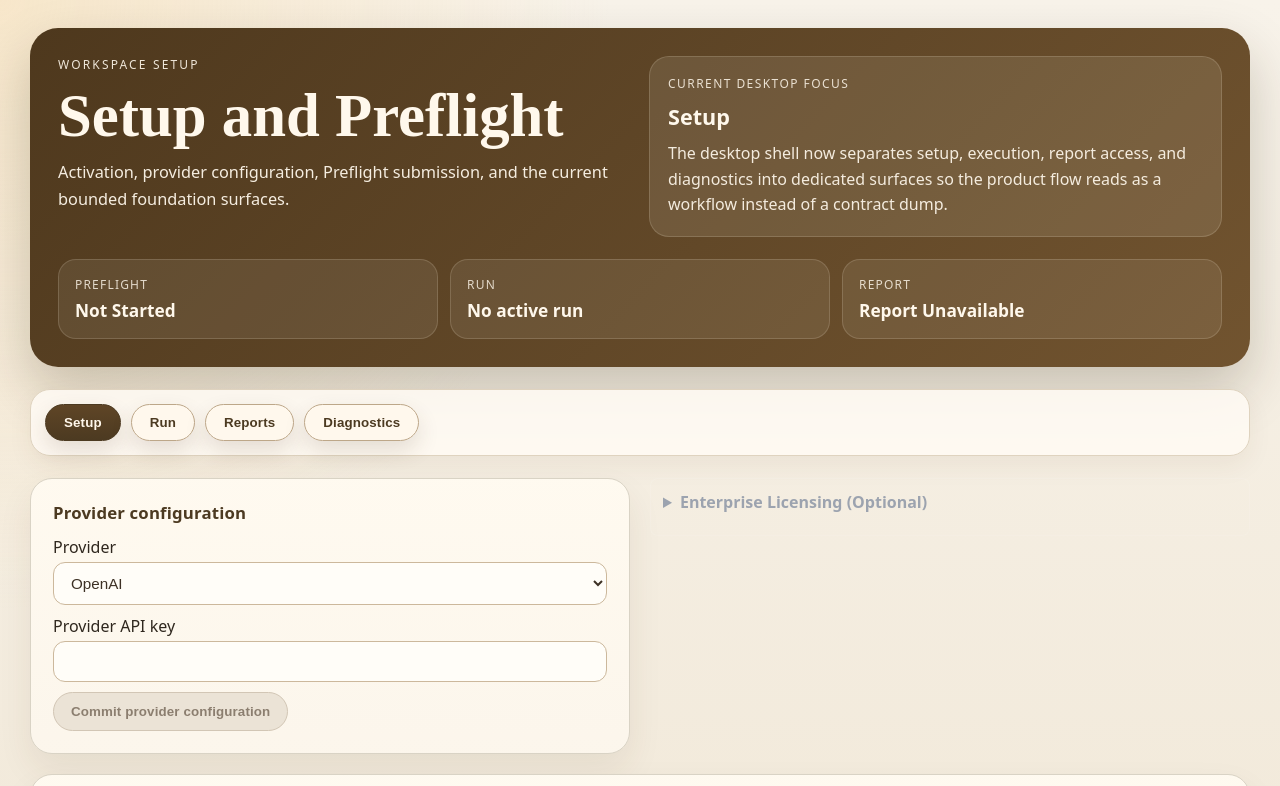
Test: App Wave 7 monitoring-contract UI › renders capped finalization truth from shell-owned monitoring surfaces
The image size is (1280, 786).
Click the button "Run". click: (163,422)
box: x1=131 y1=404 x2=195 y2=441
(page scrolled)
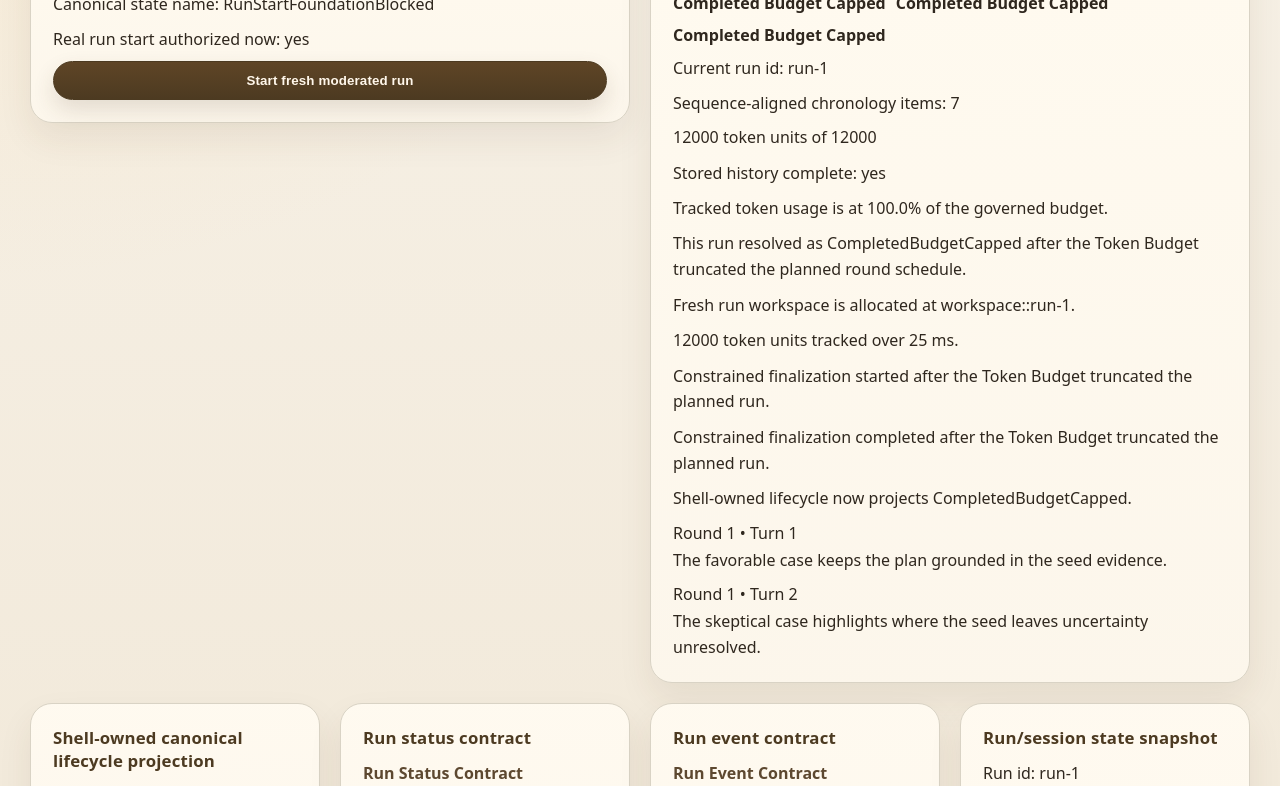
Check: the text "This run resolved as CompletedBudgetCapped after the Token Budget truncated the planned round schedule." is shown, box x1=673 y1=232 x2=1199 y2=280
Check: the text "Constrained finalization completed after the Token Budget truncated the planned run." is shown, box x1=673 y1=426 x2=1219 y2=474
